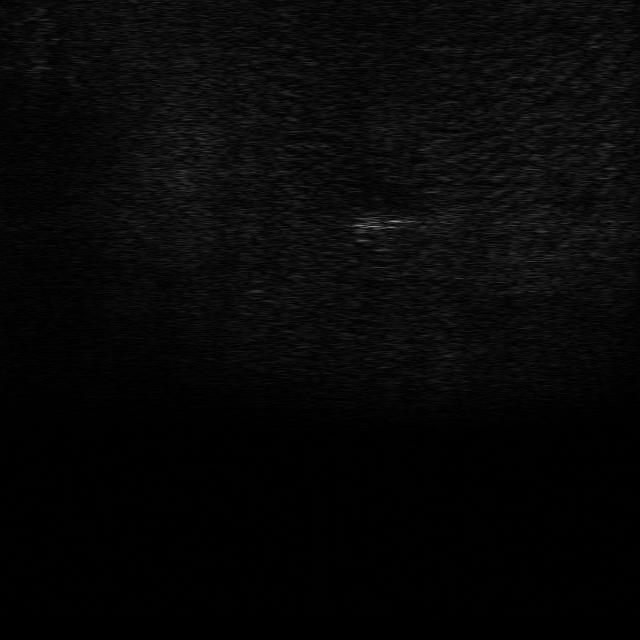plane: (350, 210, 402, 244)
